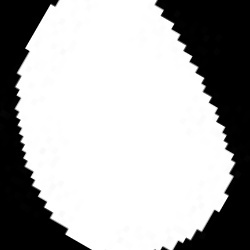spot: (16, 3, 234, 249)
